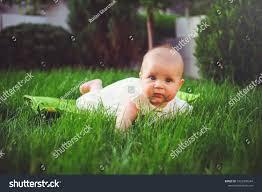child: (65, 45, 197, 134)
